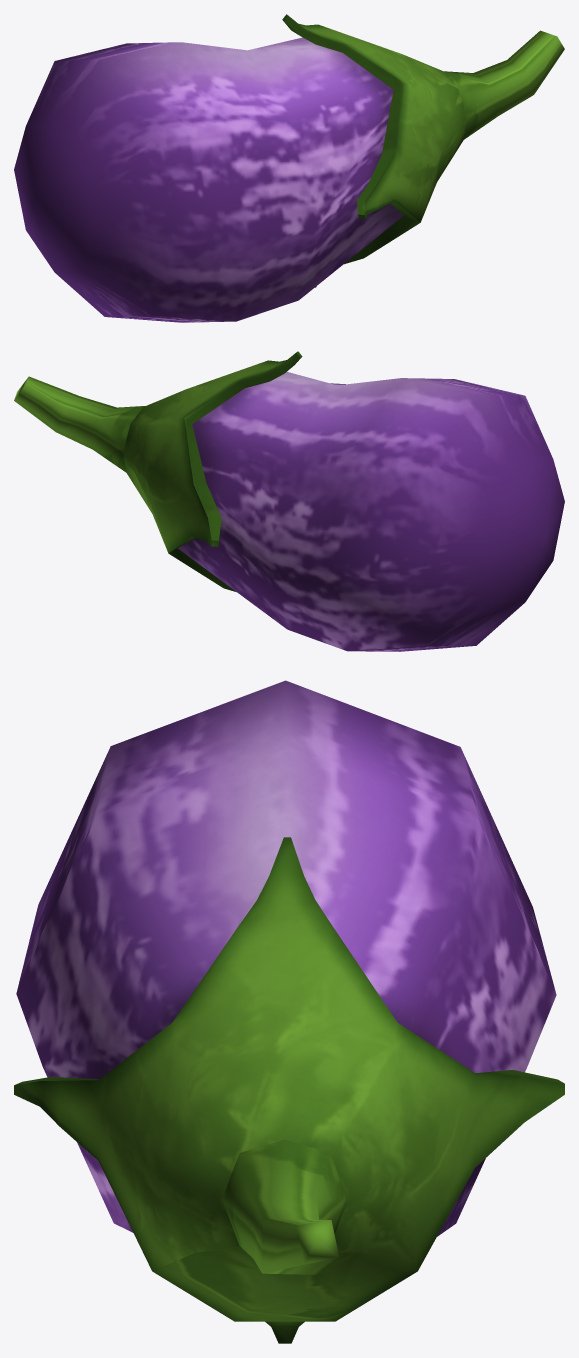
File: Eggplant_Small.fbx
3 views of the same model, one above another, from view 1: azimuth 30°, elevation 25°; view 2: azimuth 150°, elevation 25°; view 3: azimuth 270°, elevation 25° (orthographic). The views are drawn at different scales.
Parts seen in each view (by area): view 1: Eggplant_Small; view 2: Eggplant_Small; view 3: Eggplant_Small.
Boxes of the visible parts, x1,y1,x2,y2 form: Eggplant_Small: [14, 14, 564, 322]; Eggplant_Small: [14, 351, 564, 651]; Eggplant_Small: [14, 680, 564, 1343].
Bounding box in the file's own units: 58.25 × 29.21 × 29.61.
